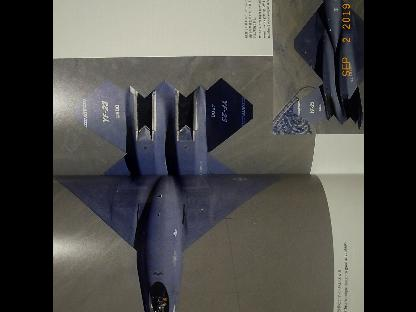US2: (53, 78, 282, 311), (291, 0, 364, 132)
